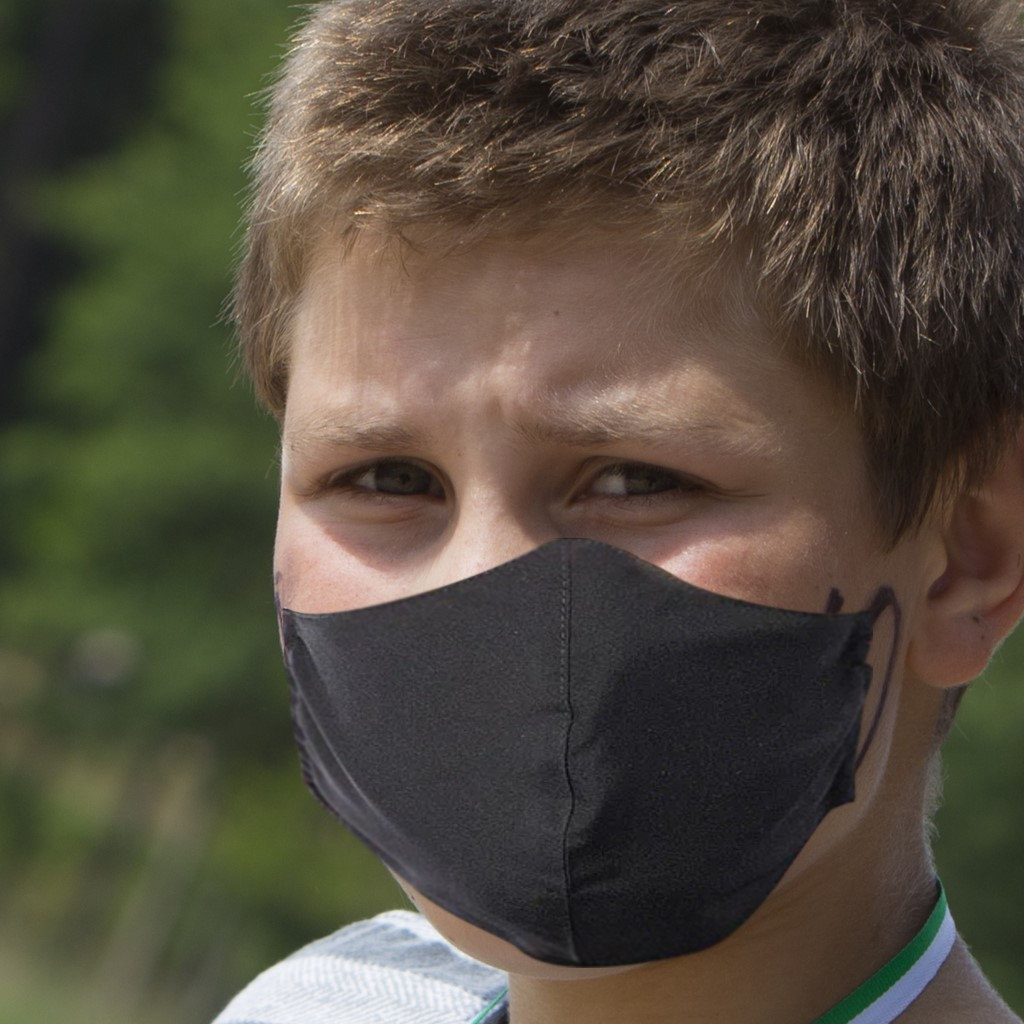con_mascara: (244, 115, 967, 912)
